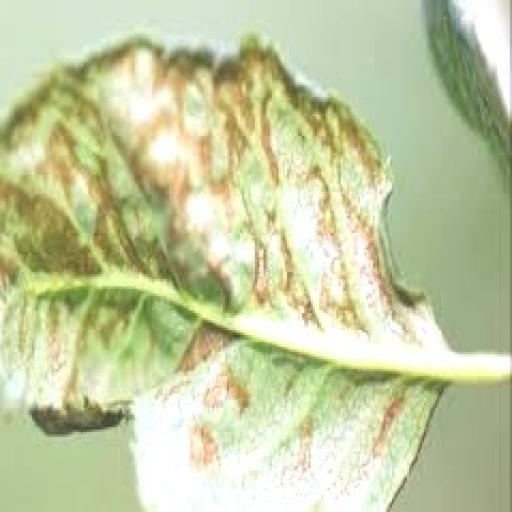thrip: (0, 39, 510, 510)
